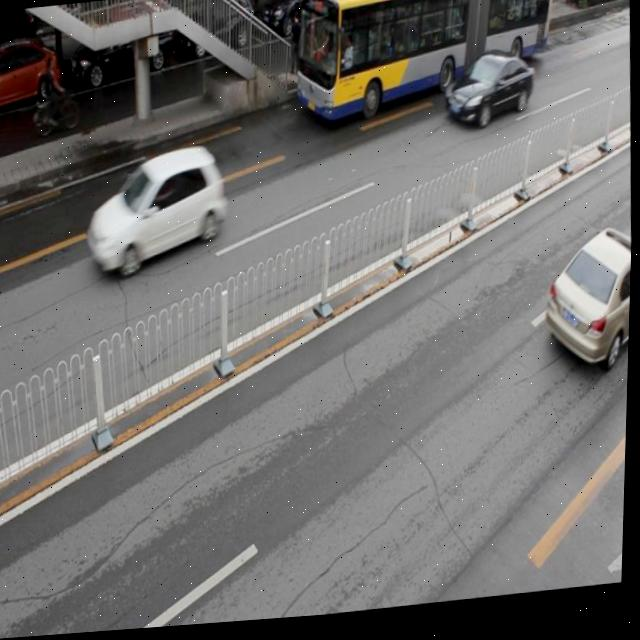car: (84, 143, 228, 280), (543, 231, 634, 378), (442, 51, 537, 137), (73, 18, 178, 94), (0, 40, 65, 118), (181, 0, 259, 63), (266, 0, 343, 44)
van: (290, 0, 556, 120)
